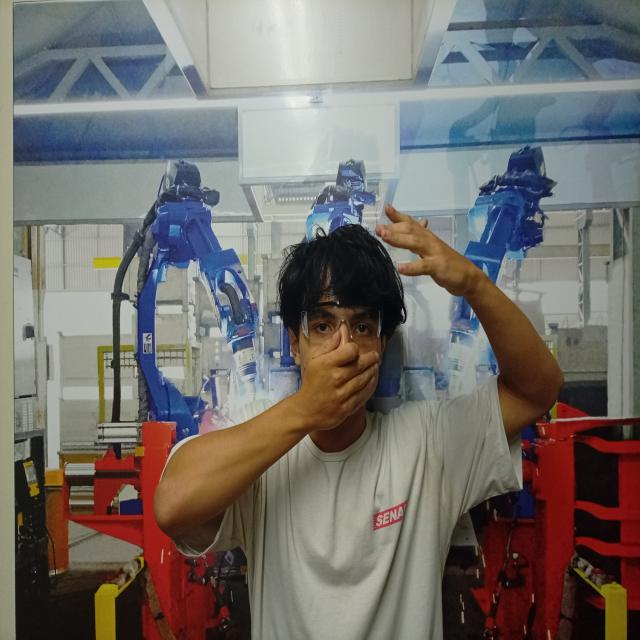oculos-epi: (300, 300, 382, 345)
